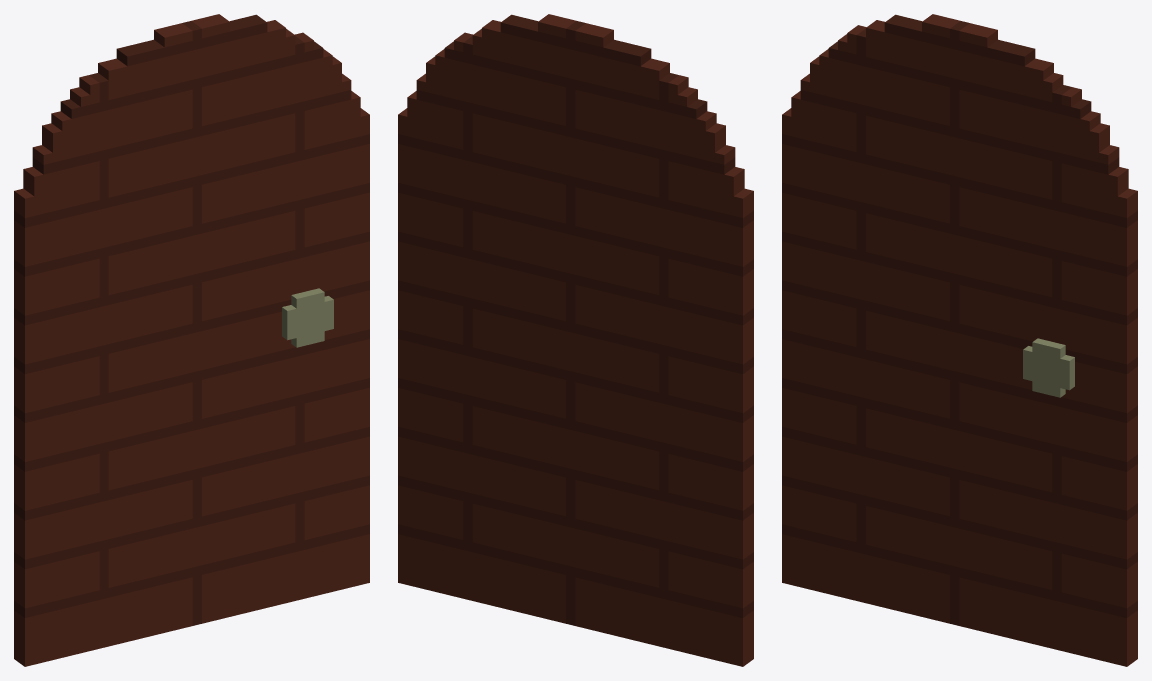
File: door-0.obj
The picture shows the model from 3 angles, left to right: view 1: azimuth 30°, elevation 25°; view 2: azimuth 150°, elevation 25°; view 3: azimuth 330°, elevation 25°; orthographic projection.
Visible parts, largest first — view 1: door-0; view 2: door-0; view 3: door-0.
Part boxes in pixels (x1=…): door-0: x1=14, y1=14, x2=369, y2=666; door-0: x1=398, y1=14, x2=753, y2=666; door-0: x1=782, y1=14, x2=1137, y2=666.
Size of the model in its own units: 37 by 61 by 4.
1 material, 1 textured.
